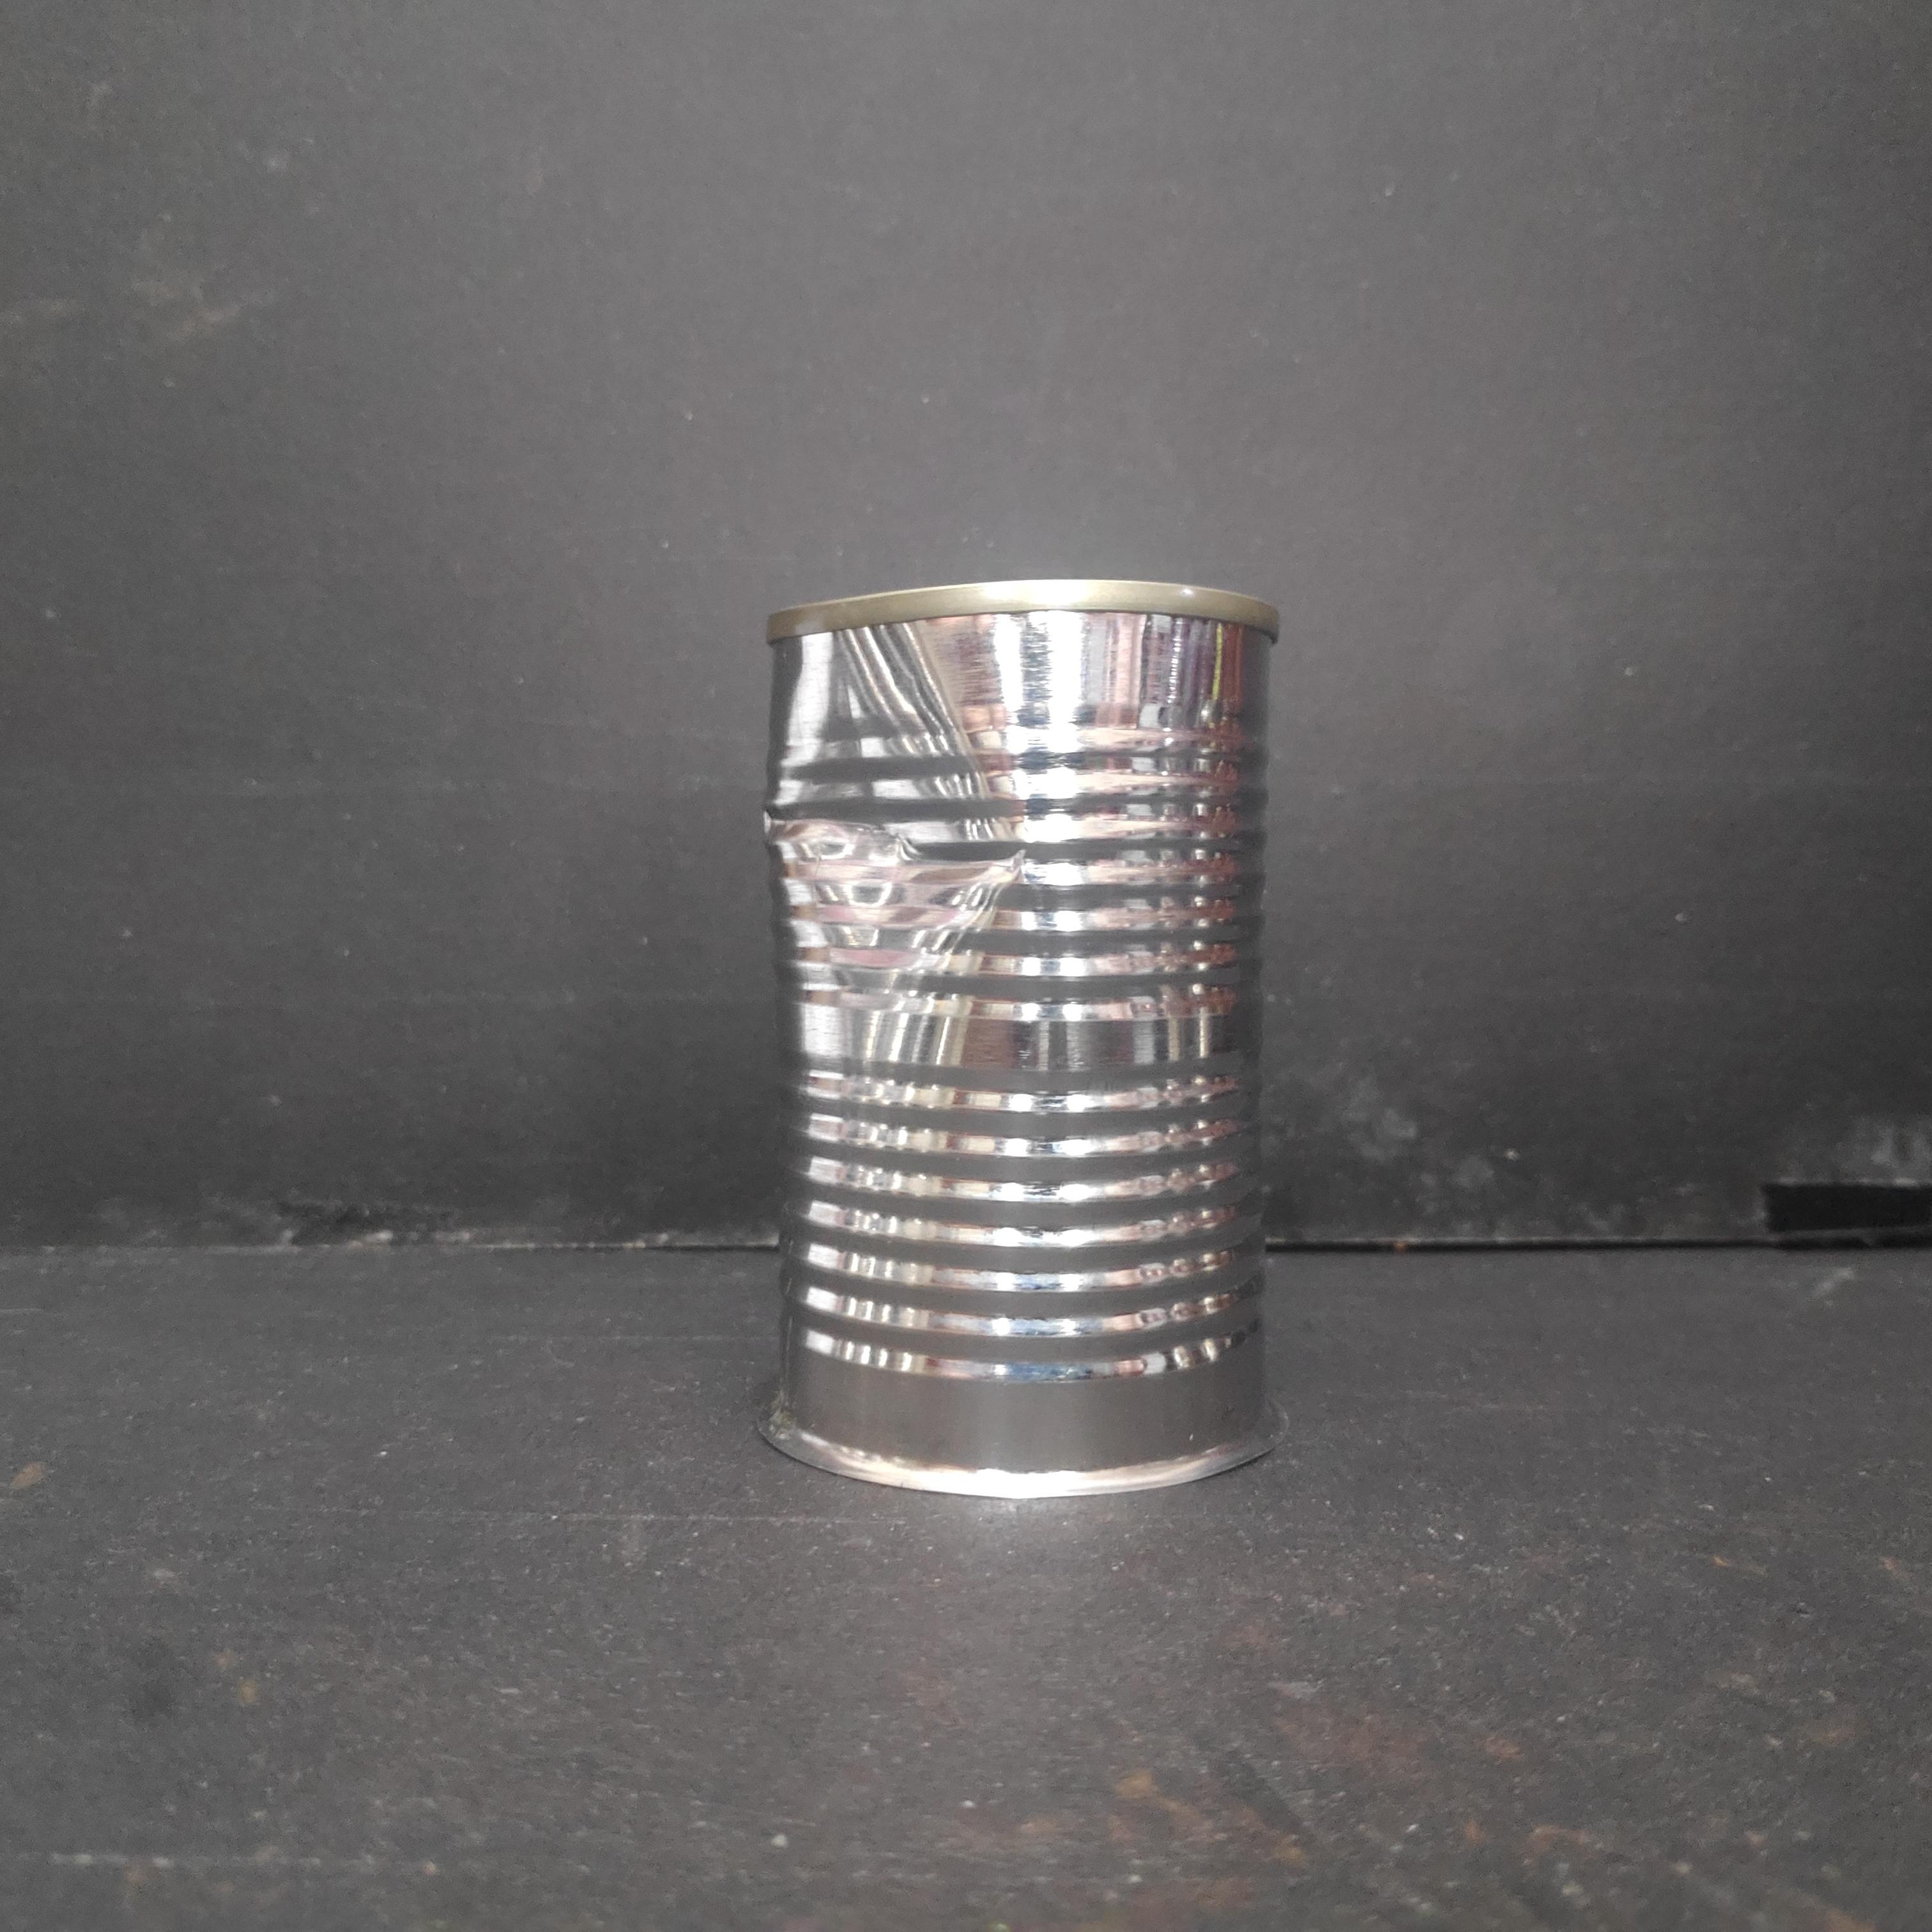Minor Defect: (752, 563, 1290, 1502)
